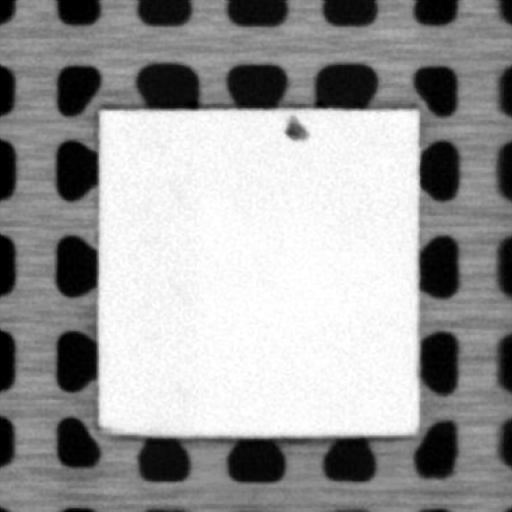DIE_INK: (282, 115, 309, 140)
